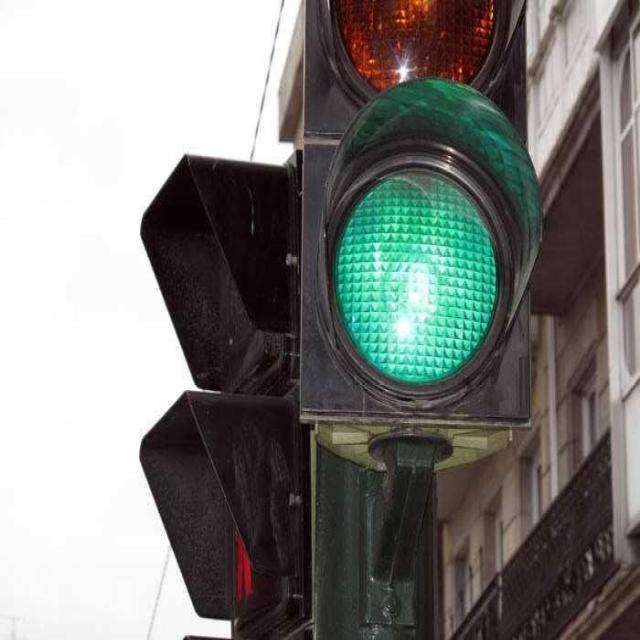Traffic Light -Green-: (291, 87, 538, 458)
